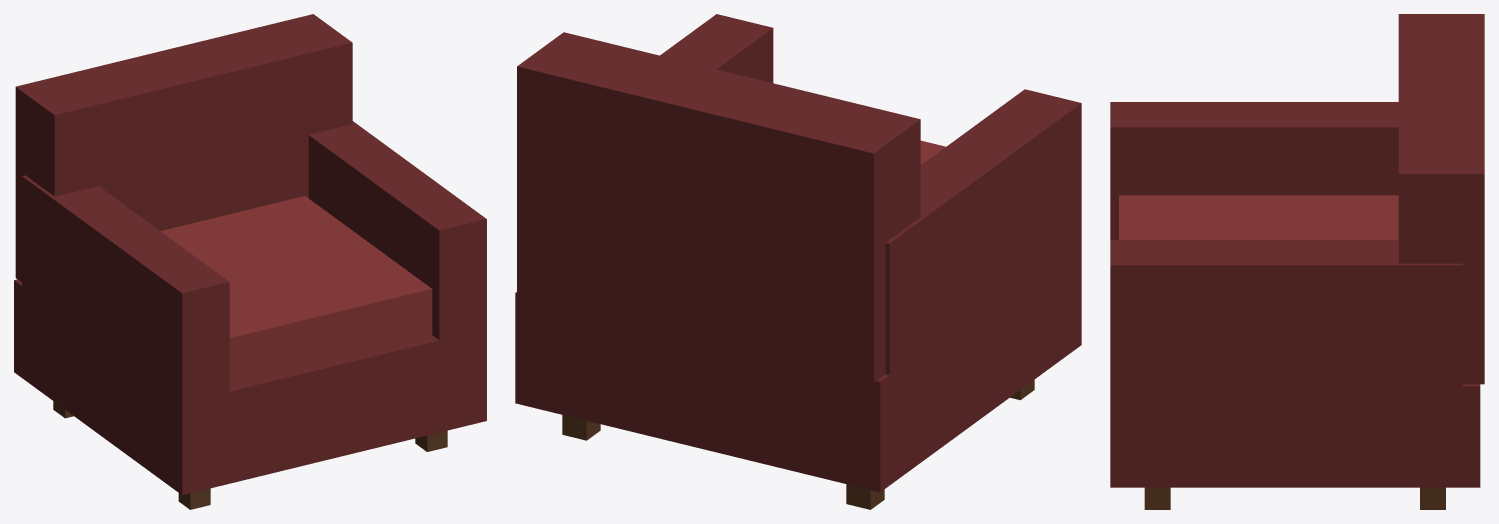
File: armchair.glb
3 views of the same model, side by side, from view 1: azimuth 30°, elevation 25°; view 2: azimuth 150°, elevation 25°; view 3: azimuth 270°, elevation 25° (orthographic). The views are drawn at different scales.
Parts seen in each view (by area): view 1: armchair-6d2a2a, armchair-8a3636, armchair-5e3b22; view 2: armchair-6d2a2a, armchair-5e3b22; view 3: armchair-6d2a2a, armchair-8a3636, armchair-5e3b22.
Boxes of the visible parts, x1,y1,x2,y2 form: armchair-6d2a2a: (14,14,486,495); armchair-8a3636: (160,196,432,387); armchair-5e3b22: (53,401,447,509); armchair-6d2a2a: (515,14,1081,492); armchair-5e3b22: (562,379,1034,509); armchair-6d2a2a: (1110,14,1484,487); armchair-8a3636: (1119,195,1398,239); armchair-5e3b22: (1144,487,1445,509).
Bounding box in the file's own units: 0.9 × 0.89 × 0.87.
